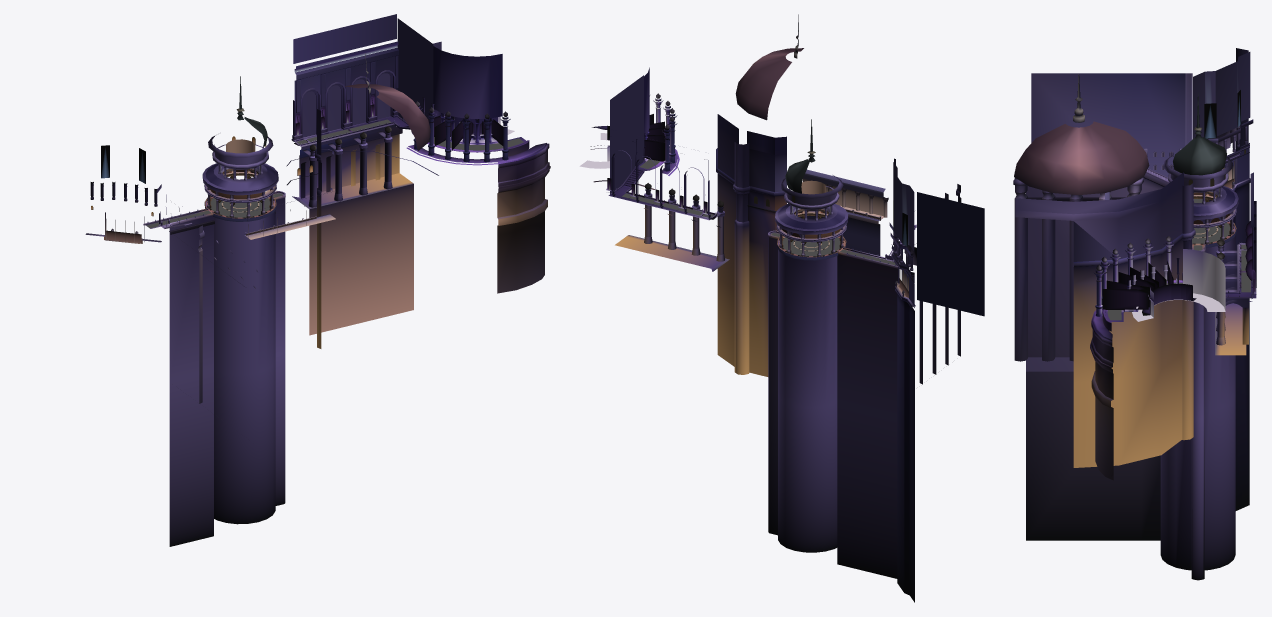
Rendered from 03Tower.gltf.
3 renders of one model, left to right at view 1: azimuth 30°, elevation 25°; view 2: azimuth 150°, elevation 25°; view 3: azimuth 270°, elevation 25°, orthographic. The views are drawn at different scales.
Parts seen in each view (by area): view 1: stg070_o04_Mesh_0113, stg070_o04_Mesh_0193, stg070_o04_Mesh_0050, stg070_o04_Mesh_0002, stg070_k09_Mesh_0000, stg070_o04_Mesh_0169, stg070_o04_Mesh_0147, stg070_w04_Mesh_000, stg070_o04_Mesh_0104, stg070_o04_Mesh_0188; view 2: stg070_o04_Mesh_0113, stg070_o04_Mesh_0193, stg070_o04_Mesh_0050, stg070_o04_Mesh_0002, stg070_o04_Mesh_0169, stg070_o04_Mesh_0188, stg070_o04_Mesh_0147, stg070_k09_Mesh_0000, stg070_w04_Mesh_000; view 3: stg070_o04_Mesh_0113, stg070_o04_Mesh_0193, stg070_o04_Mesh_0002, stg070_o04_Mesh_0050, stg070_o04_Mesh_0188, stg070_o04_Mesh_0169, stg070_k09_Mesh_0000, stg070_o04_Mesh_0147, stg070_w04_Mesh_000, stg070_o04_Mesh_0214, stg070_o04_Mesh_0104.
Part boxes in pixels (x1,y1,x2,y2): stg070_o04_Mesh_0113: [158, 46, 550, 546]; stg070_o04_Mesh_0193: [105, 14, 547, 245]; stg070_o04_Mesh_0050: [85, 45, 549, 288]; stg070_o04_Mesh_0002: [90, 41, 550, 243]; stg070_k09_Mesh_0000: [91, 98, 503, 243]; stg070_o04_Mesh_0169: [143, 41, 510, 228]; stg070_o04_Mesh_0147: [90, 70, 514, 242]; stg070_w04_Mesh_000: [146, 119, 523, 228]; stg070_o04_Mesh_0104: [207, 57, 544, 217]; stg070_o04_Mesh_0188: [199, 109, 507, 403]; stg070_o04_Mesh_0113: [612, 67, 914, 602]; stg070_o04_Mesh_0193: [607, 75, 984, 376]; stg070_o04_Mesh_0050: [590, 103, 960, 309]; stg070_o04_Mesh_0002: [582, 14, 912, 296]; stg070_o04_Mesh_0169: [613, 100, 960, 298]; stg070_o04_Mesh_0188: [656, 109, 960, 384]; stg070_o04_Mesh_0147: [579, 35, 913, 293]; stg070_k09_Mesh_0000: [607, 114, 908, 297]; stg070_w04_Mesh_000: [622, 159, 899, 265]; stg070_o04_Mesh_0113: [1026, 61, 1256, 580]; stg070_o04_Mesh_0193: [1014, 52, 1250, 467]; stg070_o04_Mesh_0002: [1014, 74, 1255, 367]; stg070_o04_Mesh_0050: [1013, 48, 1256, 407]; stg070_o04_Mesh_0188: [1014, 161, 1233, 361]; stg070_o04_Mesh_0169: [1015, 58, 1256, 308]; stg070_k09_Mesh_0000: [1102, 90, 1254, 315]; stg070_o04_Mesh_0147: [1073, 97, 1248, 321]; stg070_w04_Mesh_000: [1107, 199, 1250, 320]; stg070_o04_Mesh_0214: [1135, 73, 1191, 300]; stg070_o04_Mesh_0104: [1095, 144, 1249, 338].
Size of the model in its own units: 298 by 303 by 125.
